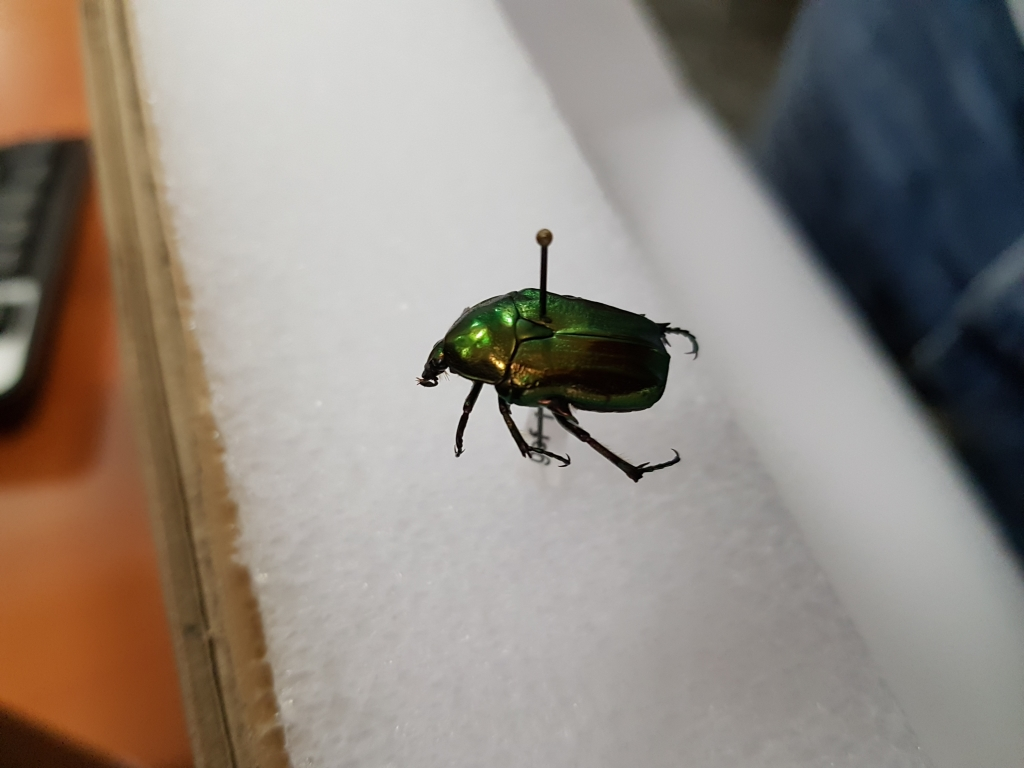Cetonia_aurata: (402, 280, 703, 492)
